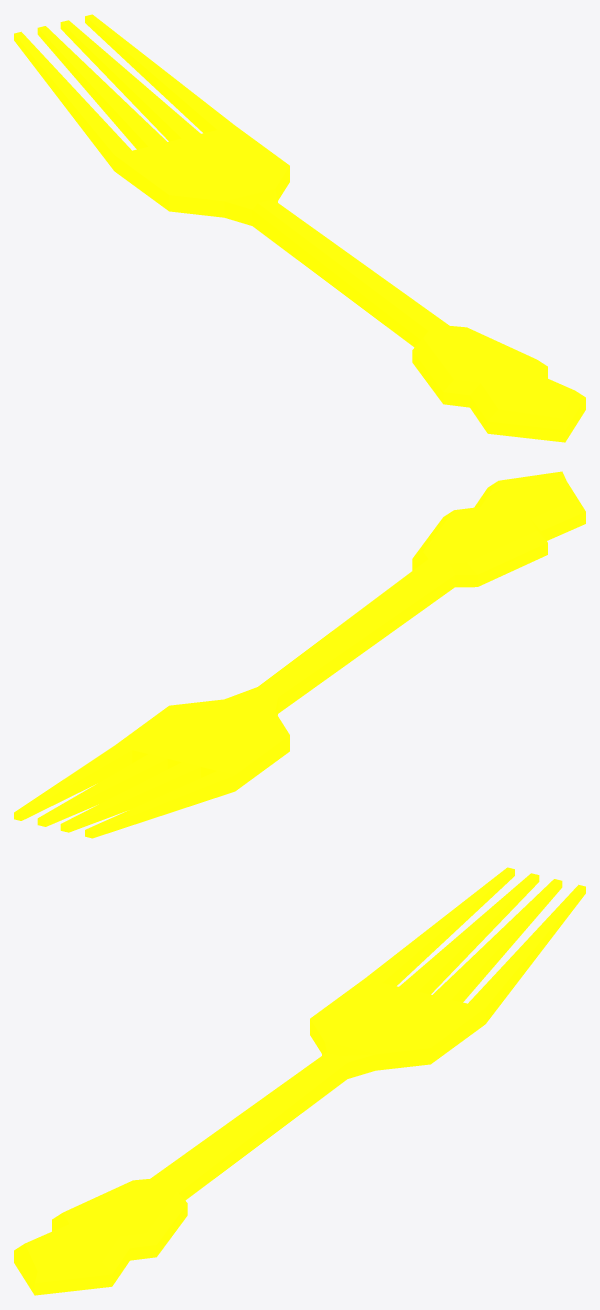
The model's file is cutlery-fork-christmas.glb.
The picture shows the model from 3 angles, top to bottom: view 1: azimuth 30°, elevation 25°; view 2: azimuth 150°, elevation 25°; view 3: azimuth 330°, elevation 25°; orthographic projection.
Parts seen in each view (by area): view 1: cutlery_fork_christmas; view 2: cutlery_fork_christmas; view 3: cutlery_fork_christmas.
Boxes of the visible parts, bbox=[...] form: cutlery_fork_christmas: bbox=[14, 14, 585, 442]; cutlery_fork_christmas: bbox=[14, 471, 585, 838]; cutlery_fork_christmas: bbox=[14, 867, 585, 1295].
Bounding box in the file's own units: 0.0395 × 0.0137 × 0.2897.
1 material, 1 textured.
